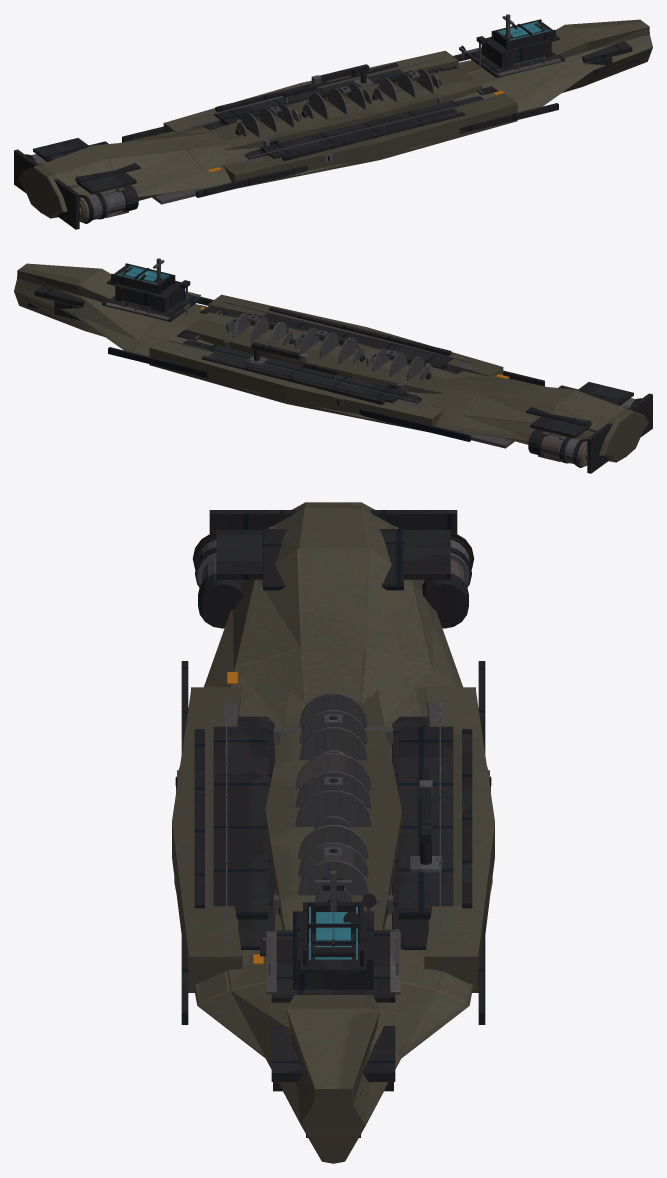
The model's file is atlas_production_v1_lod2.glb.
3 renders of one model, top to bottom at view 1: azimuth 30°, elevation 25°; view 2: azimuth 150°, elevation 25°; view 3: azimuth 270°, elevation 25°, orthographic. The views are drawn at different scales.
Parts seen in each view (by area): view 1: LOD2_Hull, LOD2_Armor, LOD2_Mechanical, LOD2_Canopy; view 2: LOD2_Hull, LOD2_Armor, LOD2_Mechanical, LOD2_Canopy; view 3: LOD2_Hull, LOD2_Armor, LOD2_Mechanical, LOD2_Canopy.
Boxes of the visible parts, x1=… form: LOD2_Hull: x1=18, y1=19, x2=652, y2=218; LOD2_Armor: x1=14, y1=19, x2=638, y2=229; LOD2_Mechanical: x1=31, y1=14, x2=561, y2=222; LOD2_Canopy: x1=498, y1=21, x2=549, y2=40; LOD2_Hull: x1=14, y1=263, x2=648, y2=462; LOD2_Armor: x1=28, y1=263, x2=652, y2=473; LOD2_Mechanical: x1=105, y1=258, x2=635, y2=466; LOD2_Canopy: x1=117, y1=265, x2=168, y2=284; LOD2_Hull: x1=172, y1=502, x2=494, y2=1163; LOD2_Armor: x1=181, y1=510, x2=485, y2=1137; LOD2_Mechanical: x1=177, y1=527, x2=489, y2=994; LOD2_Canopy: x1=309, y1=906, x2=357, y2=960.
Size of what is drawn, in the model's own units: 21.44 by 3.4 by 4.96.
Materials: 8 (8 with a texture image).
